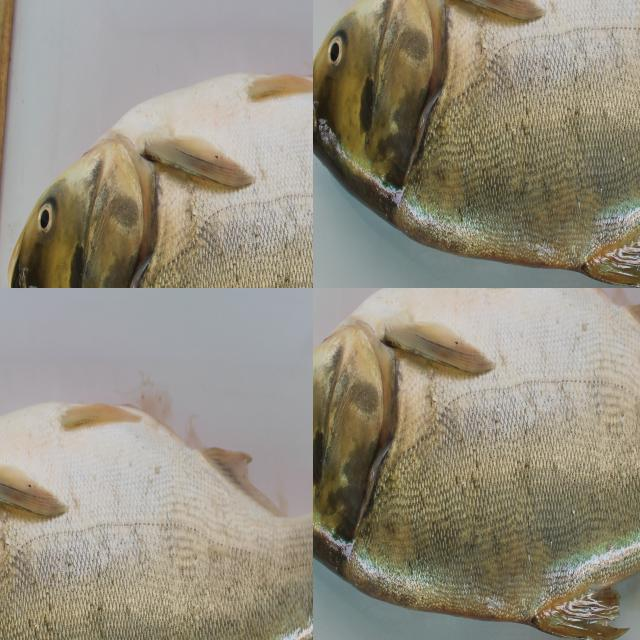fish: (313, 288, 640, 638), (313, 0, 640, 288)
